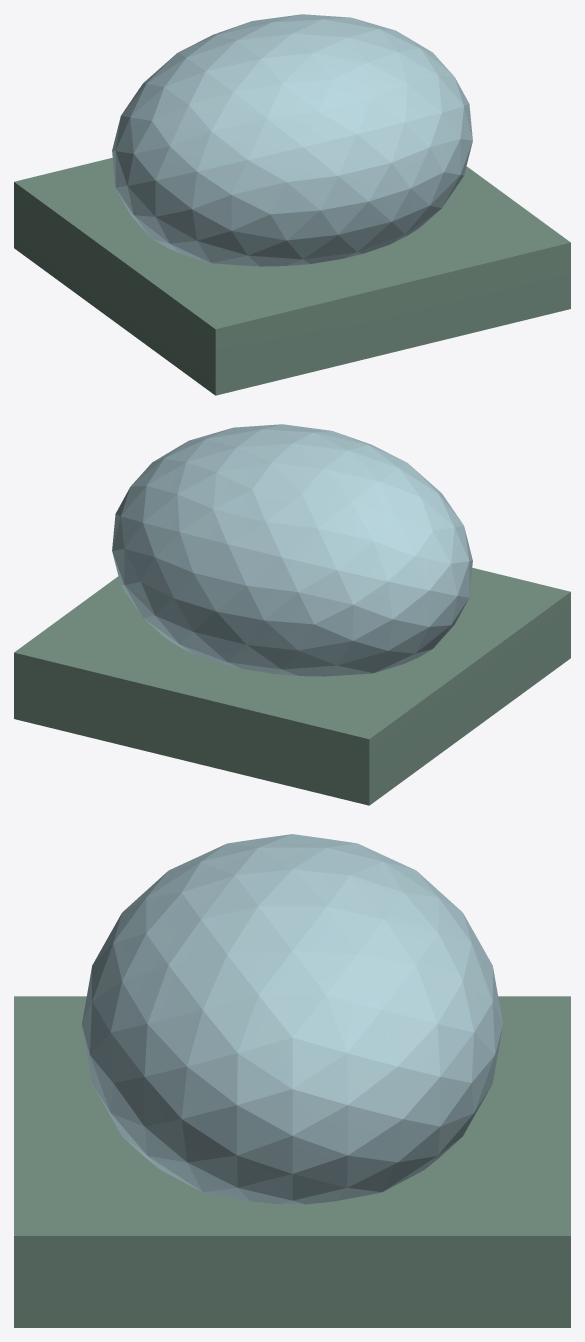
The model's file is observatory-01.glb.
The picture shows the model from 3 angles, top to bottom: view 1: azimuth 30°, elevation 25°; view 2: azimuth 150°, elevation 25°; view 3: azimuth 270°, elevation 25°; orthographic projection. The views are drawn at different scales.
Visible parts, largest first — view 1: world; view 2: world; view 3: world.
Boxes of the visible parts, box(x1,y1,x2,y2) form: world: box(14, 14, 570, 395); world: box(14, 424, 570, 805); world: box(14, 834, 570, 1327).
Size of the model in its own units: 1.12 by 0.738 by 1.1.
